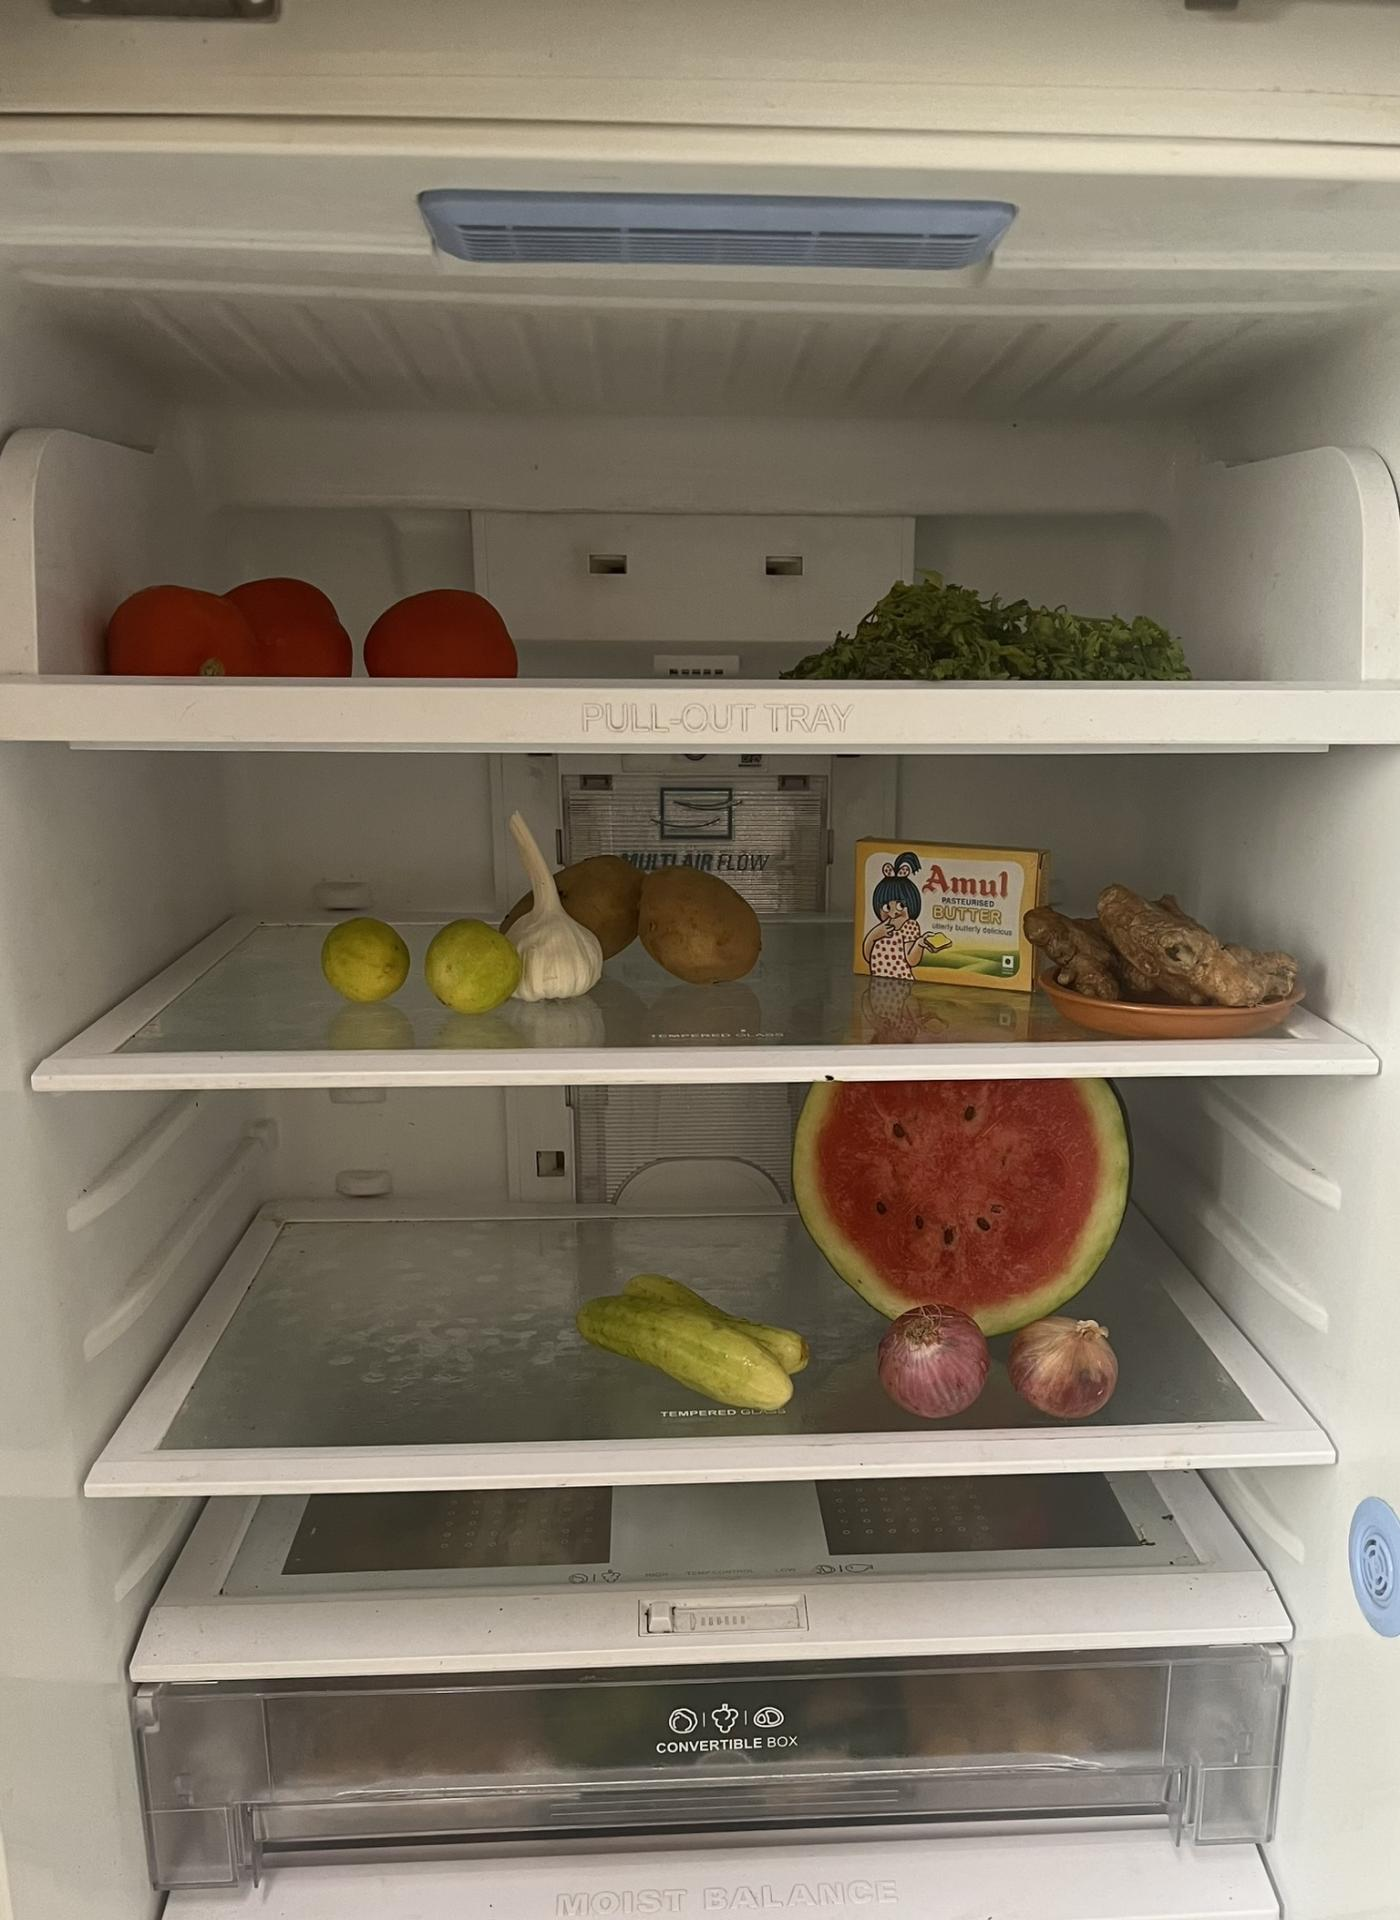butter: (854, 821, 1033, 997)
coriander: (763, 575, 1197, 678)
cucumber: (574, 1272, 823, 1406)
garlic: (483, 803, 623, 1003)
ginger: (1024, 878, 1321, 1009)
lemon: (313, 906, 416, 1006), (428, 903, 510, 1006)
onion: (1012, 1300, 1130, 1422), (878, 1303, 997, 1413)
potato: (498, 847, 781, 978)
tomato: (100, 556, 362, 681), (358, 581, 525, 678)
watermelon: (799, 1078, 1133, 1325)
